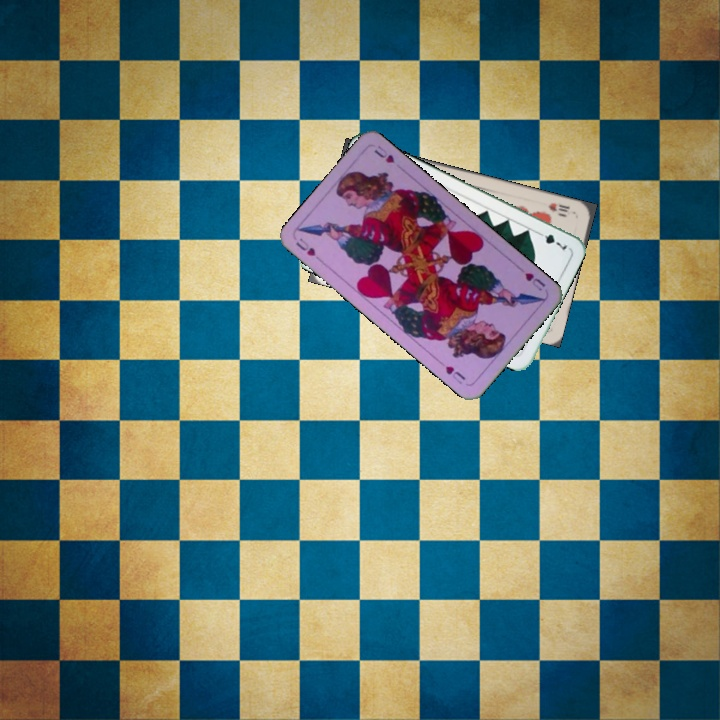G7: (532, 227, 569, 253)
H10: (544, 199, 572, 215)
HU: (521, 268, 548, 293), (292, 234, 318, 259)
